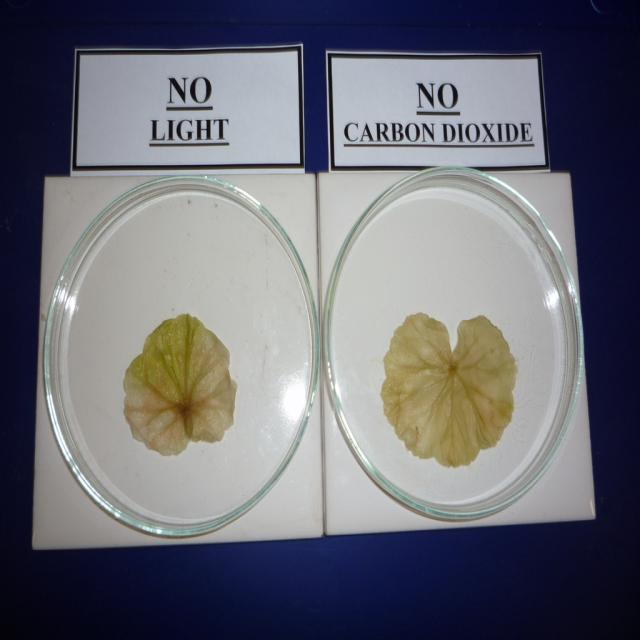non-organic waste: (31, 152, 611, 563)
